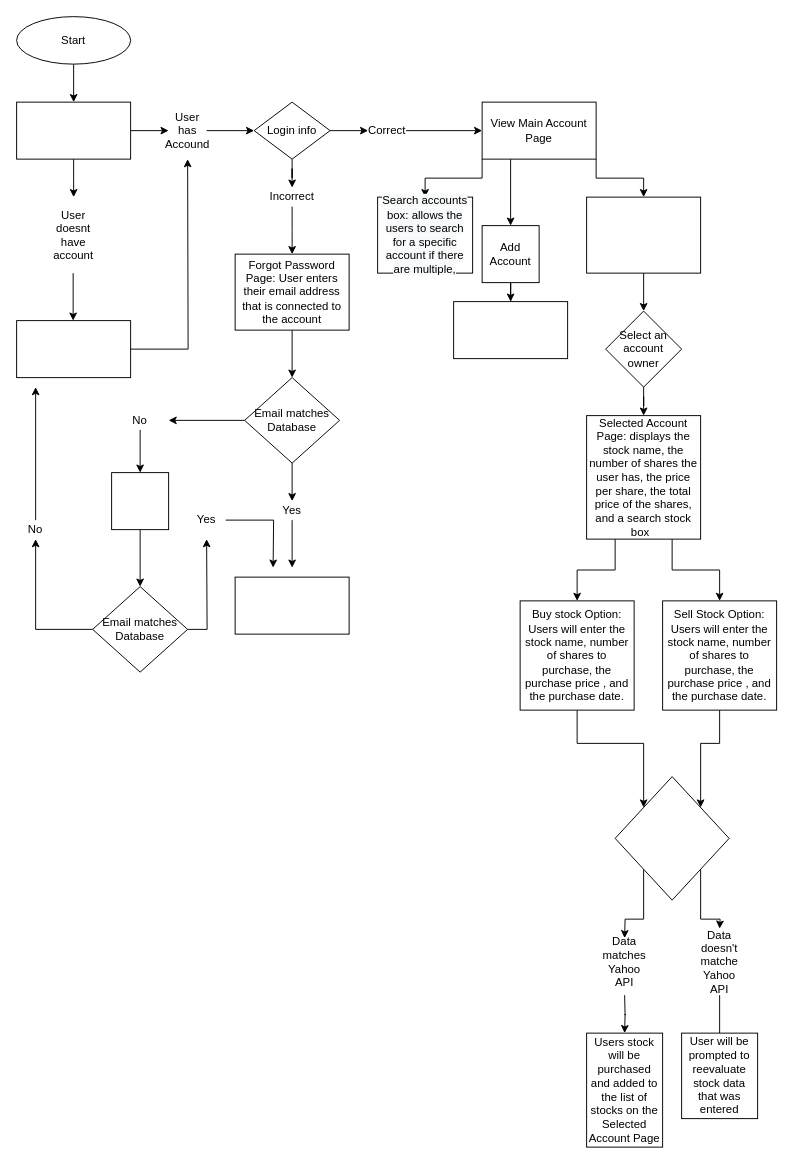
This 793x1164 diagram has some shape labels left out. Each missing label, with the box of its shape:
Account owner list: displays the account owners name and loss / gain: (586, 196, 701, 273)
Create Account Page: User enters basic information and creates account: (16, 320, 131, 378)
Login Page: User enters email and password or scan fingerprint: (16, 101, 131, 159)
Reenter email address: (111, 472, 169, 530)
Reset email sent and user clicks link to reset email: (234, 576, 349, 634)
User enters First Name, Last Name, Initial Capital, and their email address: (453, 301, 568, 359)
Users stock data will be used along with the Yahoo API: (614, 776, 729, 900)
